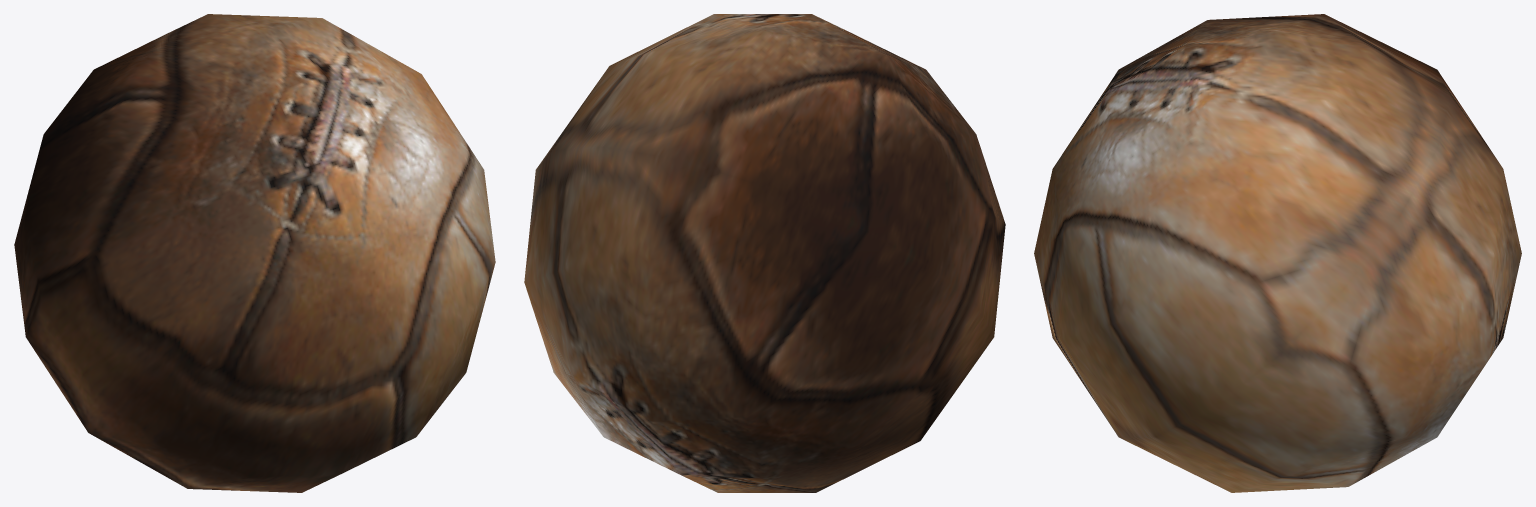
File: balon_viejo_006.FBX
3 views of the same model, side by side, from view 1: azimuth 30°, elevation 25°; view 2: azimuth 150°, elevation 25°; view 3: azimuth 270°, elevation 25° (orthographic).
Visible parts, largest first — view 1: balon_viejo_006; view 2: balon_viejo_006; view 3: balon_viejo_006.
Part boxes in pixels (x1,y1,x2,y2): balon_viejo_006: (14, 14, 495, 492); balon_viejo_006: (524, 14, 1005, 492); balon_viejo_006: (1034, 14, 1521, 492).
Size of the model in its own units: 26.98 by 26.98 by 26.98.
